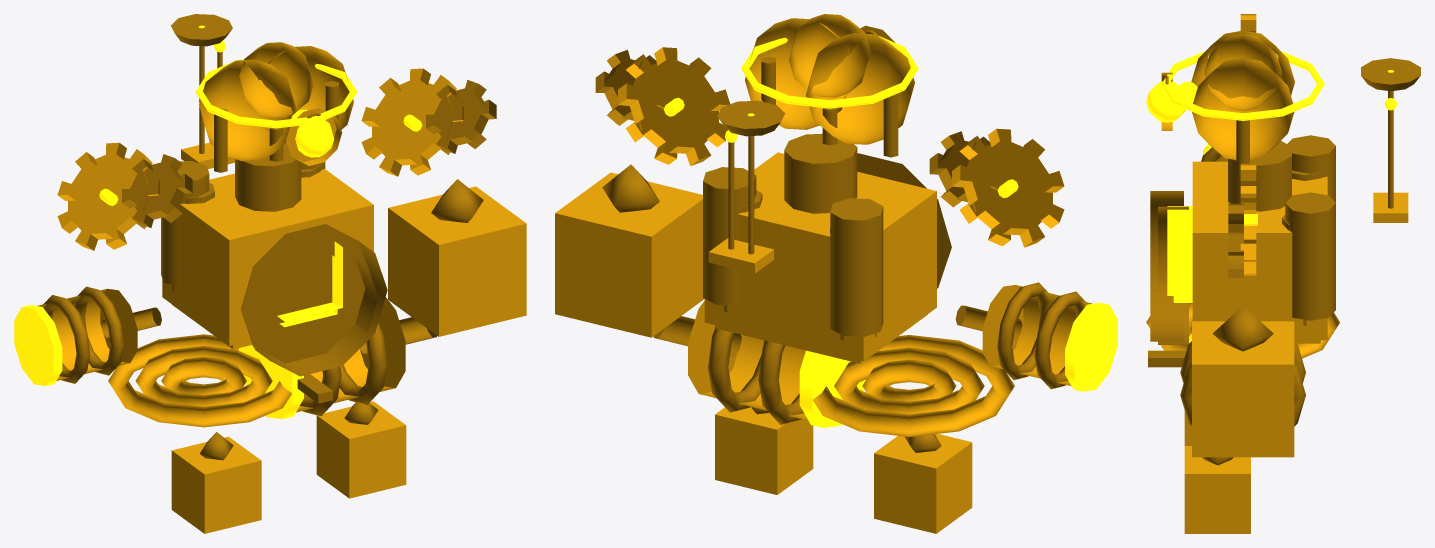
The model's file is golem_118.glb.
3 renders of one model, left to right at view 1: azimuth 30°, elevation 25°; view 2: azimuth 150°, elevation 25°; view 3: azimuth 270°, elevation 25°, orthographic. The views are drawn at different scales.
Visible parts, largest first — view 1: Body, Detail, Glow; view 2: Body, Detail, Glow; view 3: Body, Detail, Glow.
Boxes of the visible parts, x1,y1,x2,y2 form: Body: (37, 42, 526, 533); Detail: (43, 14, 496, 460); Glow: (14, 25, 422, 419); Body: (555, 14, 1092, 533); Detail: (595, 30, 1085, 452); Glow: (663, 36, 1117, 427); Body: (1146, 14, 1408, 533); Detail: (1148, 58, 1420, 465); Glow: (1146, 51, 1396, 343).
Bounding box in the file's own units: 1.65 × 1.5 × 0.8335.
